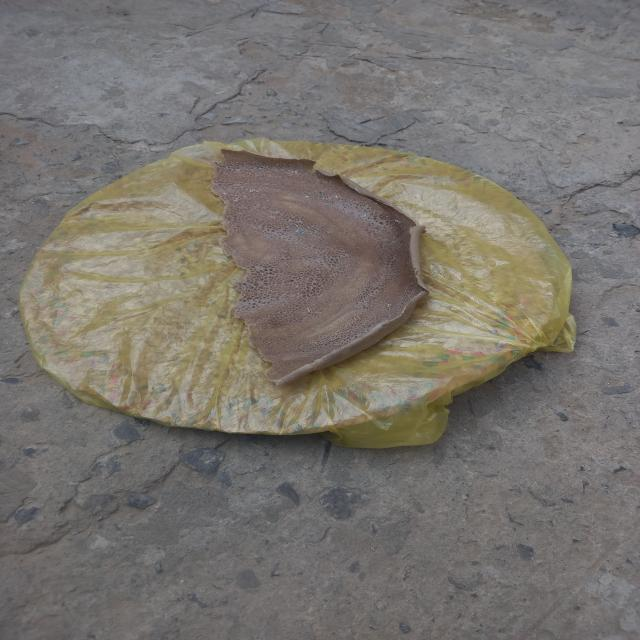injera_mold: (247, 189, 261, 193), (386, 302, 392, 310), (304, 195, 310, 200), (292, 170, 299, 174), (233, 198, 239, 202), (334, 196, 342, 199), (319, 190, 324, 194), (298, 230, 304, 233), (274, 165, 277, 171), (359, 331, 362, 336), (308, 226, 313, 229), (260, 166, 264, 169), (223, 192, 226, 196), (392, 240, 395, 244), (396, 220, 400, 223), (325, 202, 328, 206), (302, 172, 306, 175), (330, 180, 334, 183), (385, 215, 389, 218), (281, 168, 286, 170), (364, 214, 367, 217), (266, 184, 270, 186), (297, 166, 301, 168), (375, 203, 379, 205), (250, 167, 254, 169), (243, 194, 246, 196), (328, 232, 331, 234), (289, 169, 291, 172), (289, 173, 291, 176), (309, 202, 312, 204), (390, 227, 392, 229), (377, 323, 380, 324), (290, 207, 291, 208), (266, 201, 268, 201)
